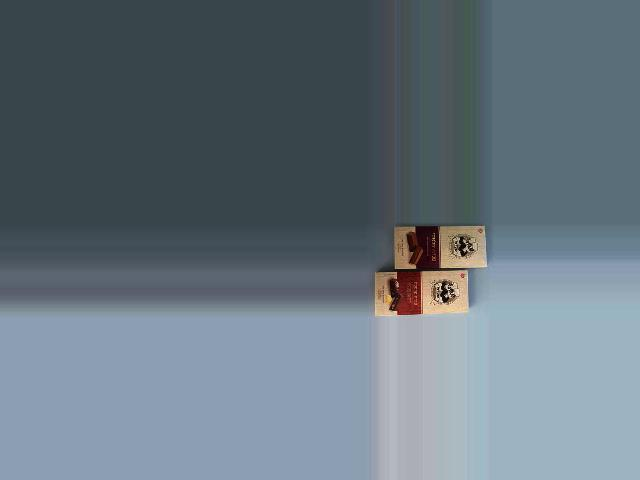chocolate: (372, 260, 472, 317)
